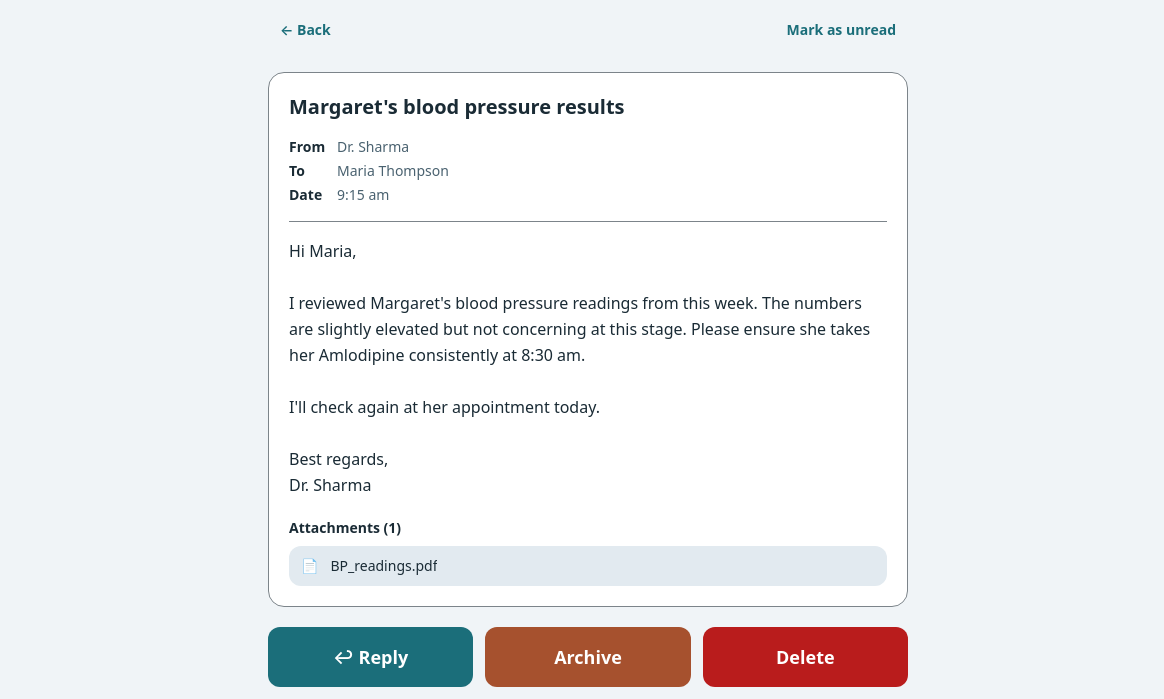
MessagesPage › reply pre-fills the recipient and subject; cancel discards
(page scrolled)
Click the button "↩ Reply".
click(371, 657)  # box [268,627,473,687]
(page scrolled)
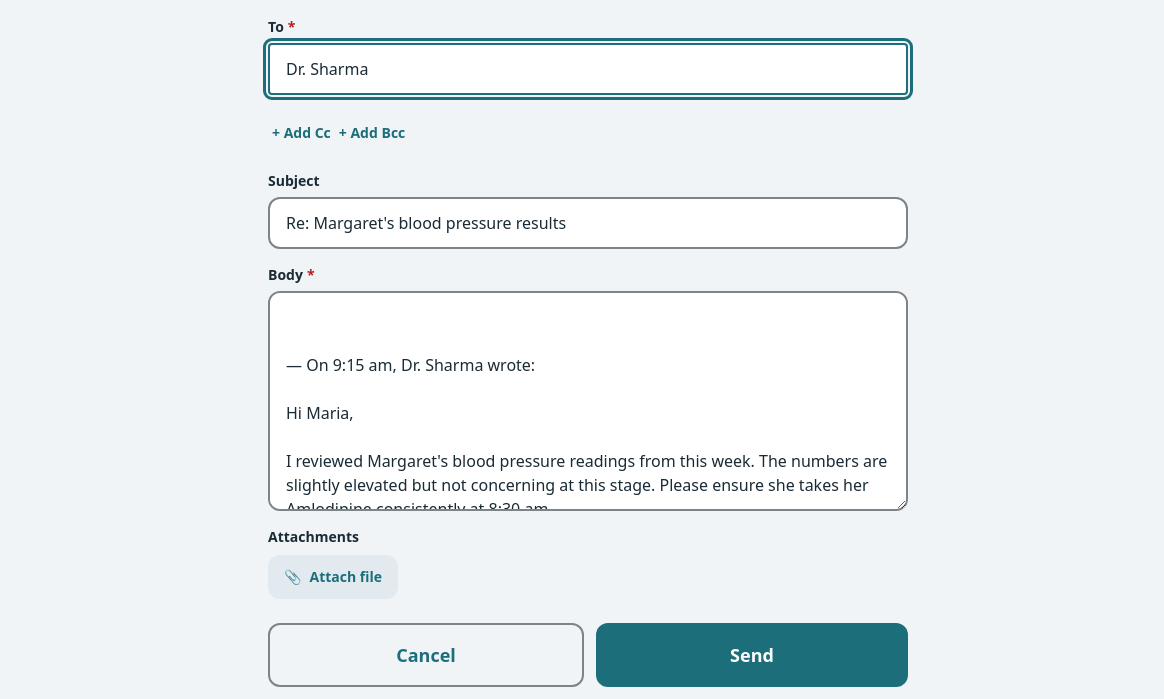
Now the field labelled "To*" holds "Dr. Sharma", box [268,43,908,95]
Click the button "Cancel".
click(426, 655)  # box [268,623,584,687]
(page scrolled)
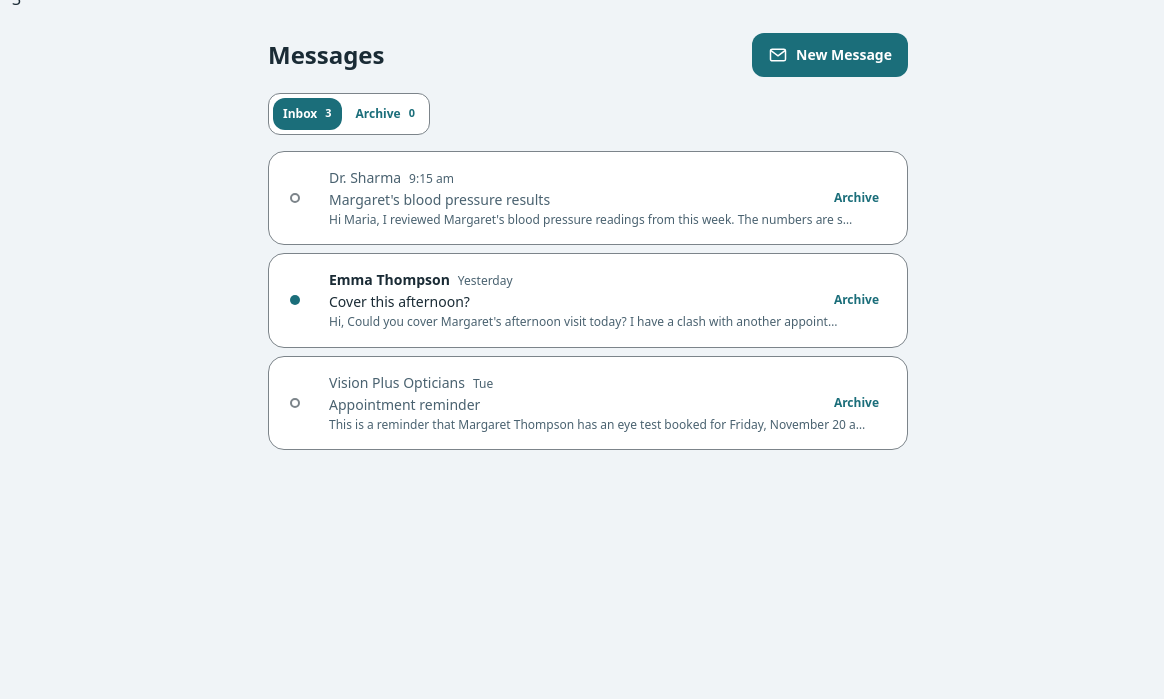
Now the list named "inbox messages" is shown, box [268,151,908,450]
Click the button with aria-label "compose new message".
click(830, 55)  # box [752,33,908,77]
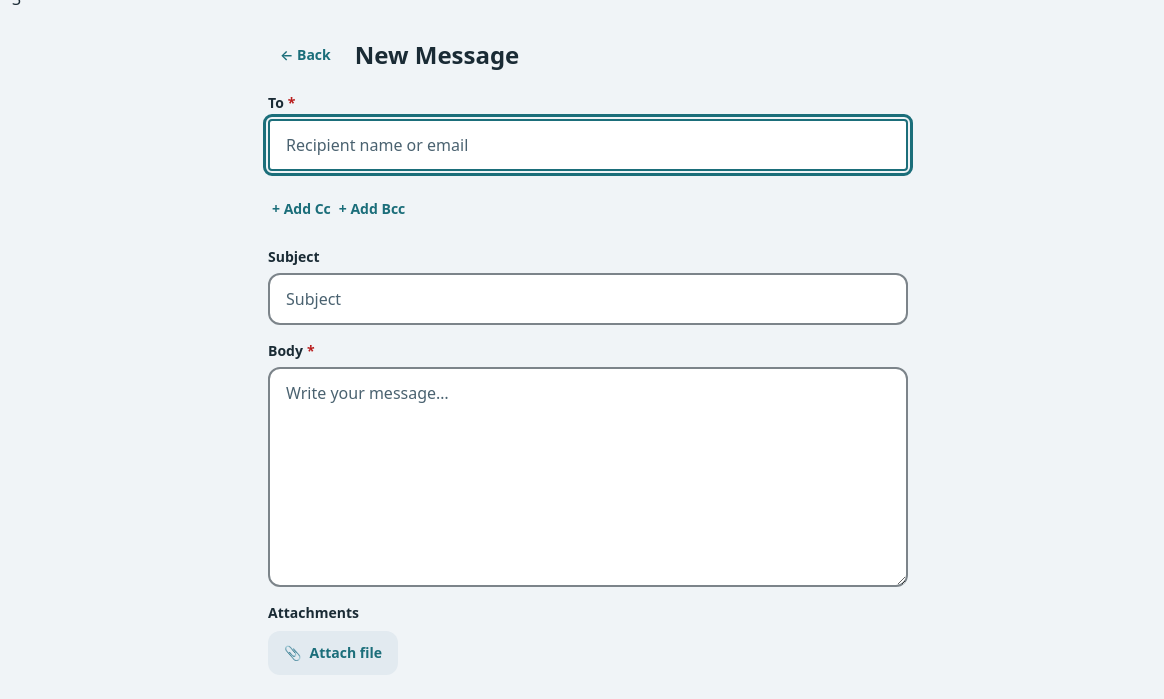
Click the button with aria-label "back to messages".
click(305, 55)  # box [268,33,343,77]
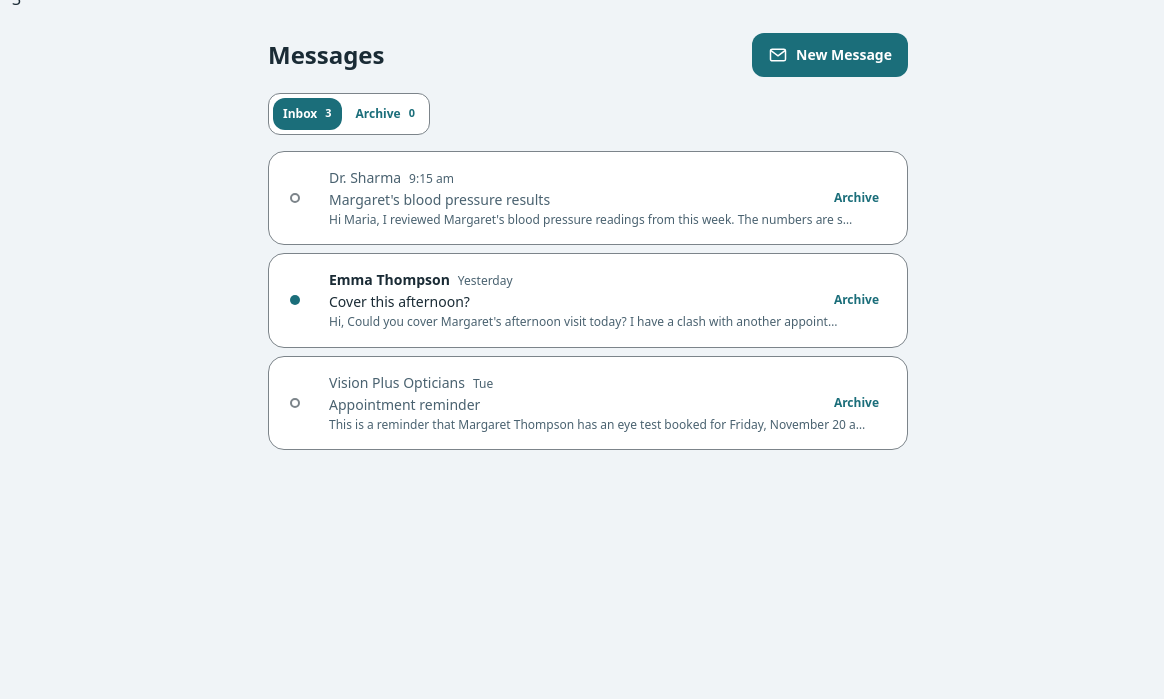
Now the list named "inbox messages" is shown, box [268,151,908,450]
